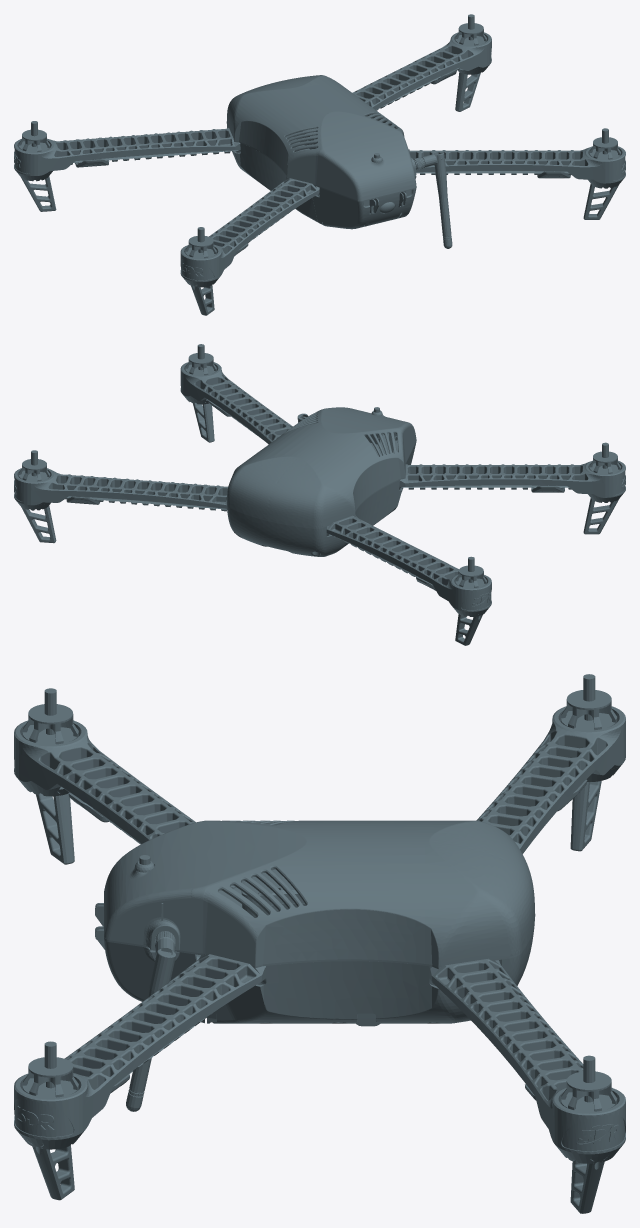
Rendered from iris.glb.
The picture shows the model from 3 angles, top to bottom: view 1: azimuth 30°, elevation 25°; view 2: azimuth 150°, elevation 25°; view 3: azimuth 270°, elevation 25°; orthographic projection. The views are drawn at different scales.
Parts seen in each view (by area): view 1: ASY0028-mesh; view 2: ASY0028-mesh; view 3: ASY0028-mesh.
Boxes of the visible parts, x1=… form: ASY0028-mesh: x1=14, y1=14, x2=625, y2=315; ASY0028-mesh: x1=14, y1=344, x2=625, y2=645; ASY0028-mesh: x1=14, y1=674, x2=625, y2=1213.
Bounding box in the file's own units: 0.4776 × 0.1135 × 0.2994.
